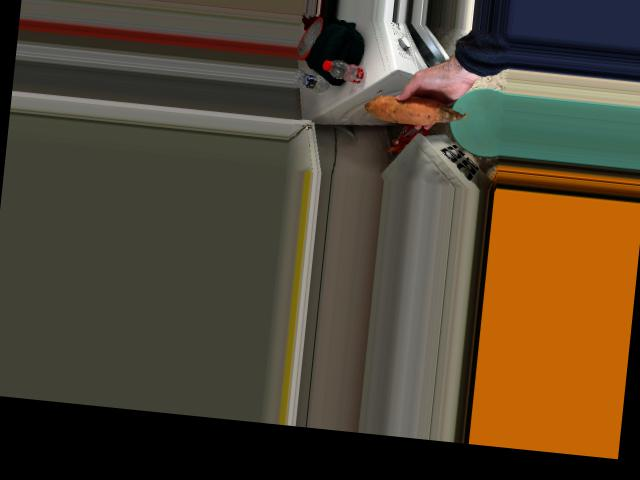sweet_potato: (377, 94, 453, 124)
